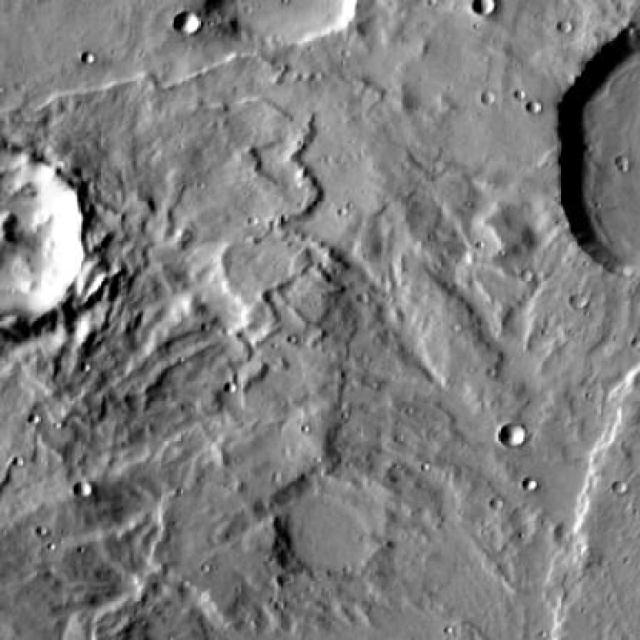crater: (566, 36, 640, 284), (3, 151, 97, 326), (276, 478, 398, 584), (172, 12, 198, 36), (500, 426, 526, 448), (474, 1, 495, 19)
